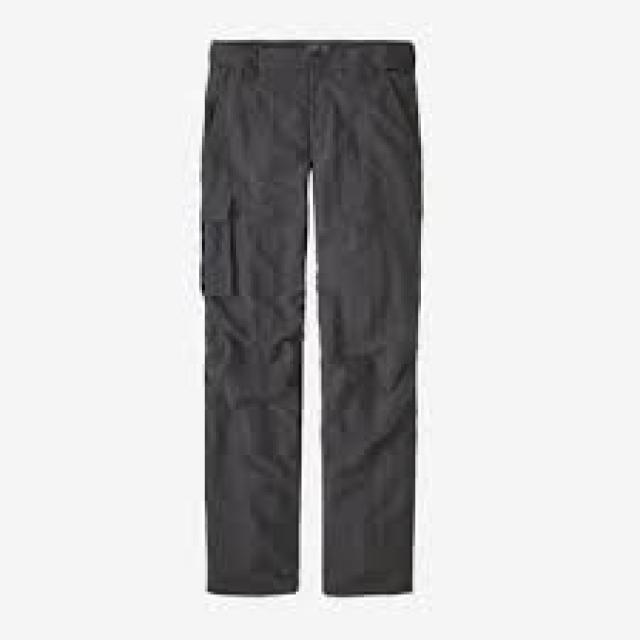pants: (198, 35, 422, 598)
